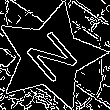N_SE: (18, 24, 83, 89)
